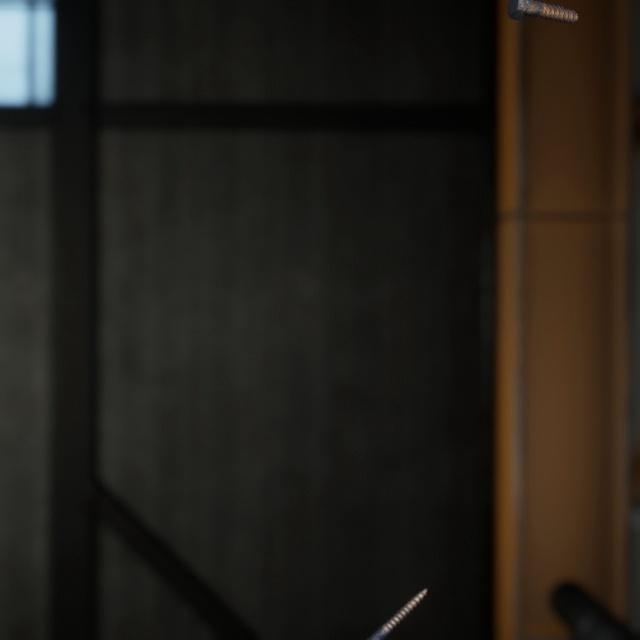bolt: (346, 561, 433, 640), (502, 0, 583, 22)
